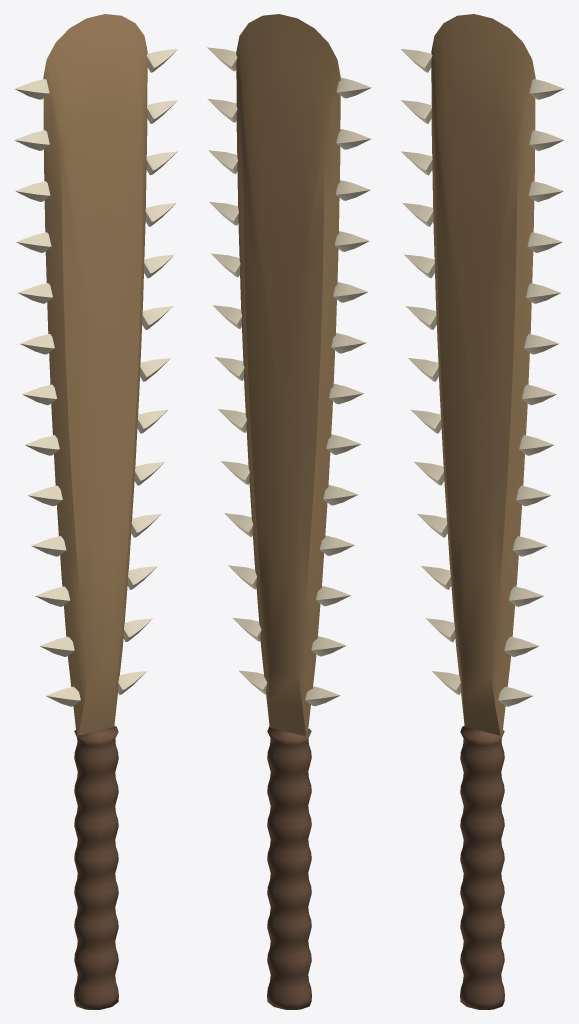
The model's file is great-terbutje.glb.
3 renders of one model, left to right at view 1: azimuth 30°, elevation 25°; view 2: azimuth 150°, elevation 25°; view 3: azimuth 330°, elevation 25°, orthographic.
Parts seen in each view (by area): view 1: great-terbutje; view 2: great-terbutje; view 3: great-terbutje.
Boxes of the visible parts, box(x1,y1,x2,y2) form: great-terbutje: box(14, 14, 177, 1009); great-terbutje: box(207, 14, 371, 1009); great-terbutje: box(401, 14, 564, 1009).
Bounding box in the file's own units: 0.3 × 1.71 × 0.0607.
